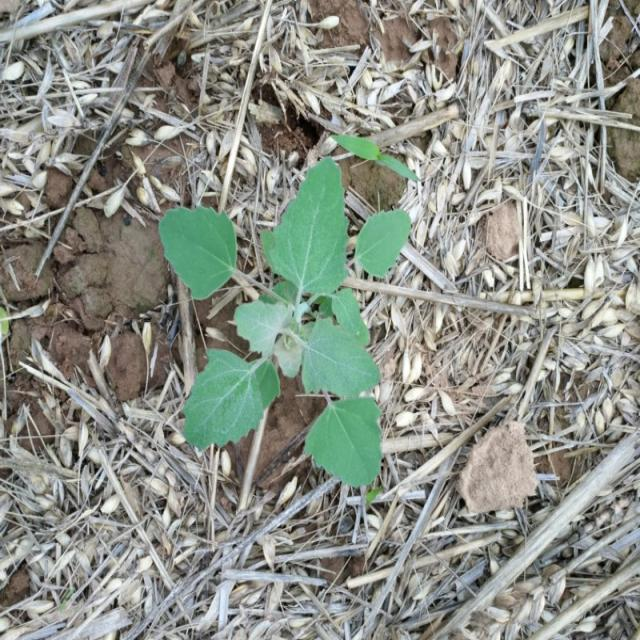goosefoots: (154, 150, 412, 488)
